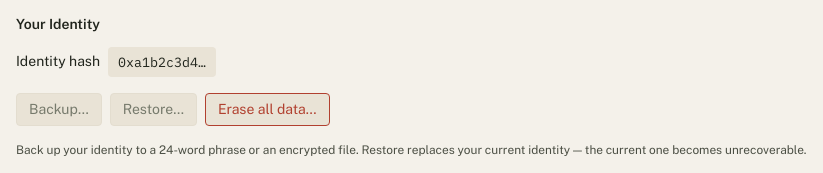
Scenario: IdentityPanel — wizard mode toggles › clicking Backup… shows backup type picker and hides default buttons
The image size is (823, 173).
Expected: the button "0xa1b2c3d4…" is shown, [108,47,216,77]
What coordinates should you click on to do the following:
click the button "Backup…"
I would click on:
 (59, 109)
Its box is [16,93,102,126].
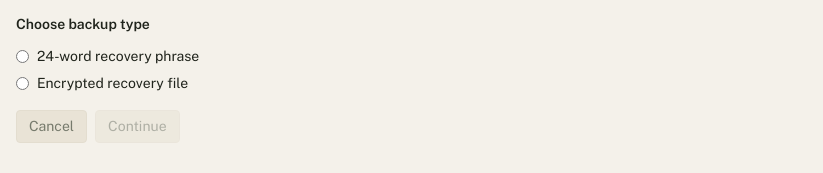
Now the heading "Choose backup type" is shown, box [16,16,150,32]
Now the button "Restore" is gone
